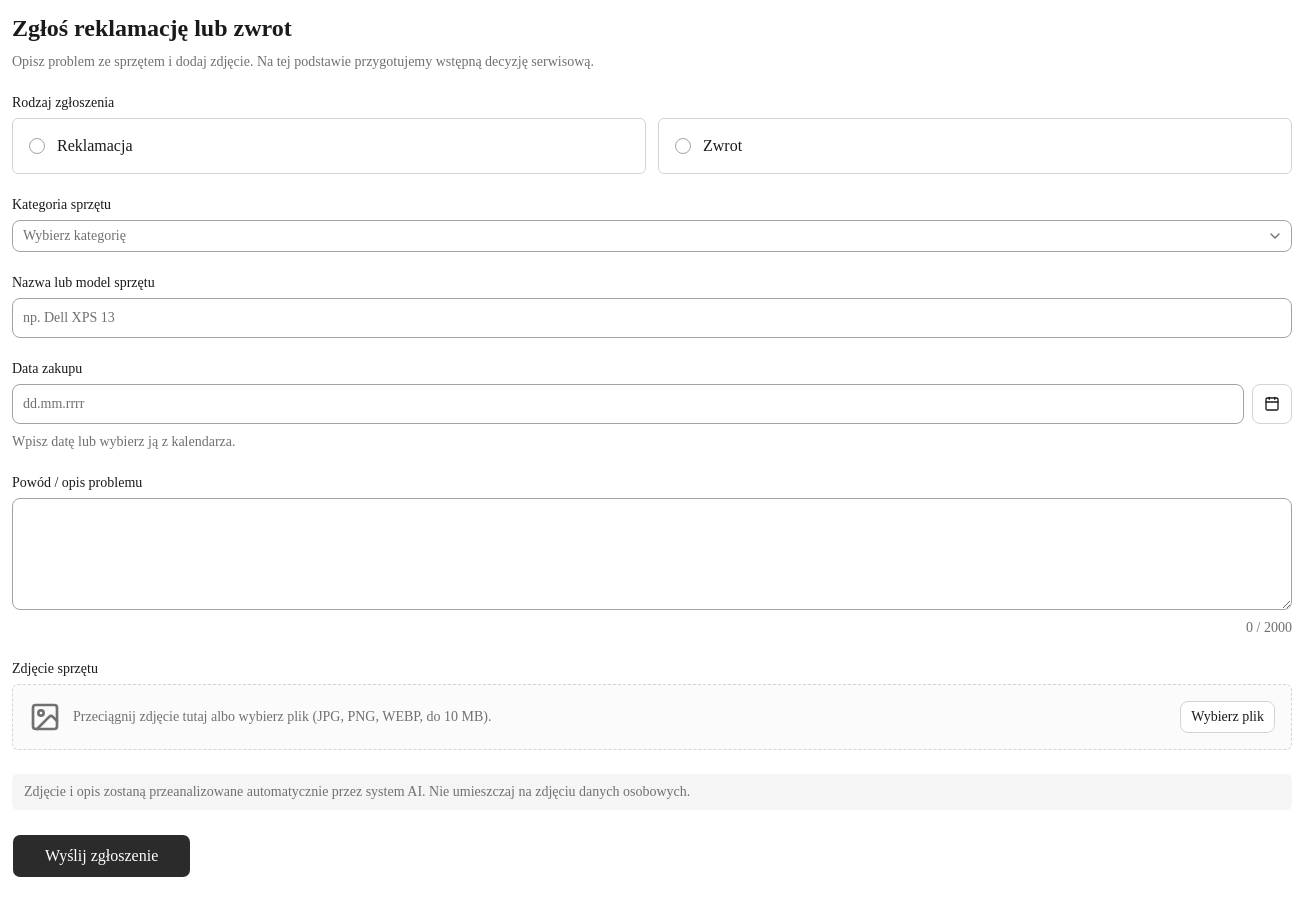
Photo field (AC-08..AC-10) › shows the hint per case type and none before a type is chosen (AC-10)
The image size is (1304, 912).
Expected: the text "Pokaż wyraźnie uszkodzenie lub problem." is not shown
Expected: the text "Pokaż cały sprzęt, tak aby było widać, że nie nosi śladów użytkowania." is not shown
Click the 2nd radio button named "Zwrot". click: (683, 146)
box: [675, 138, 691, 154]
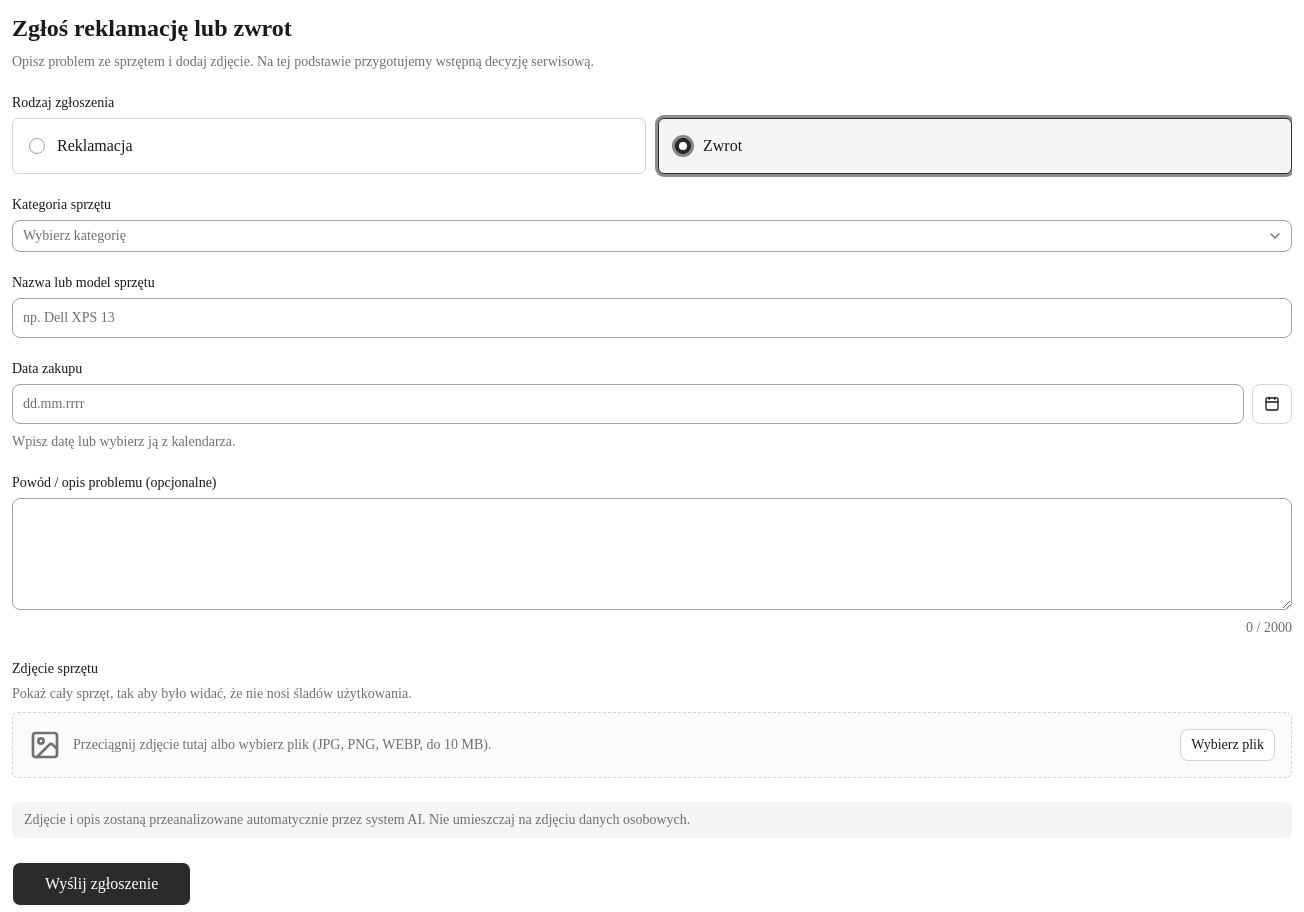
Result: the text "Pokaż cały sprzęt, tak aby było widać, że nie nosi śladów użytkowania." is shown at [12, 686, 412, 701]
Click the radio button named "Reklamacja" next to "Reklamacja". click: (37, 146)
box: [29, 138, 45, 154]
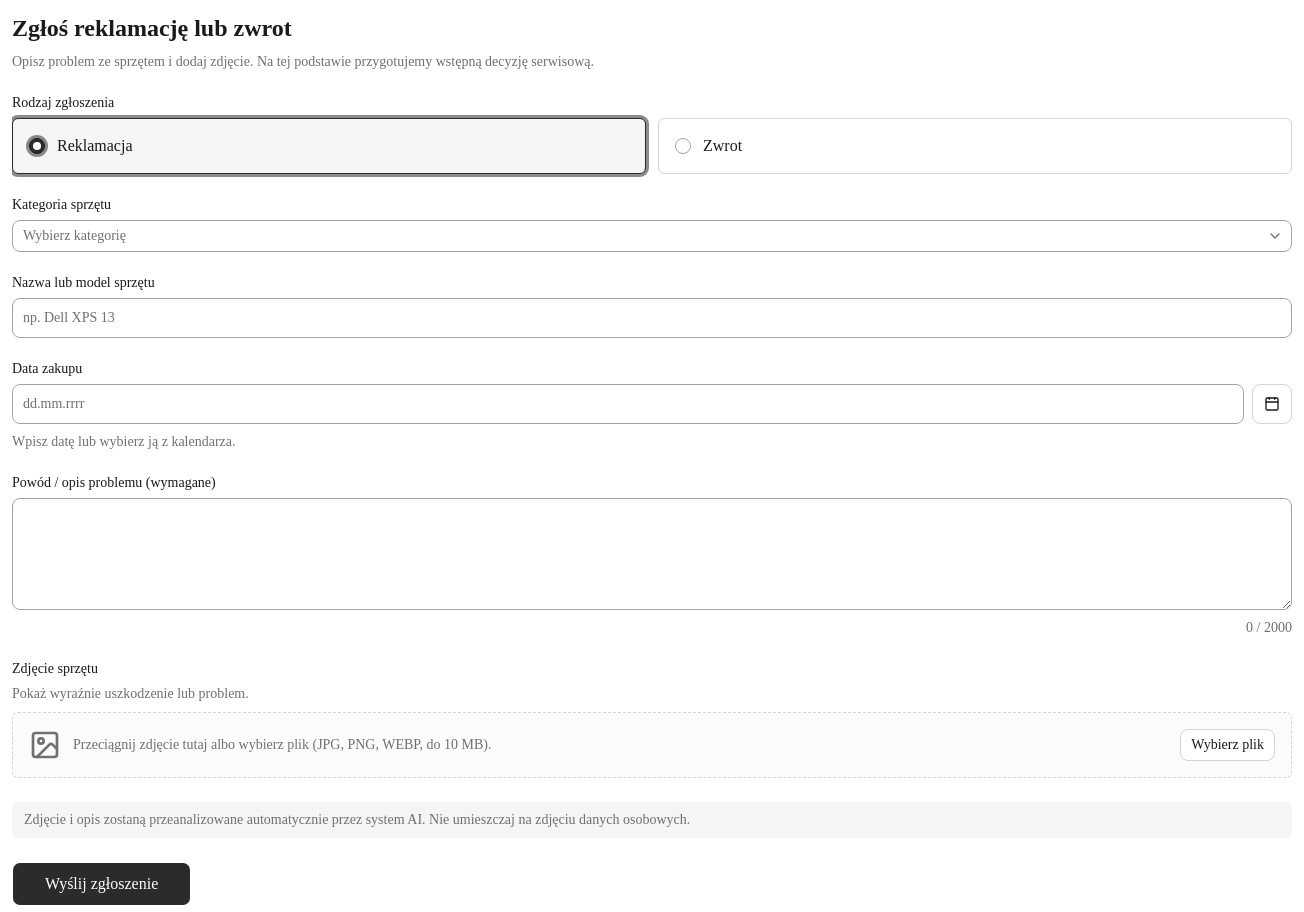
Result: the text "Pokaż wyraźnie uszkodzenie lub problem." is shown at [12, 686, 249, 701]
Result: the text "Pokaż cały sprzęt, tak aby było widać, że nie nosi śladów użytkowania." is gone
